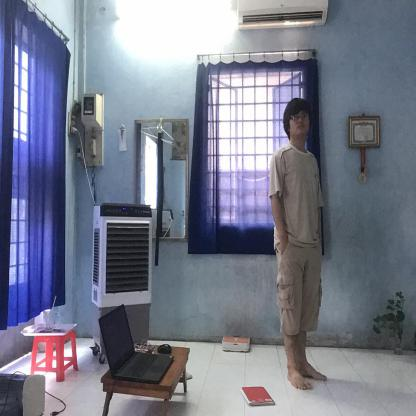person: (268, 94, 325, 395)
